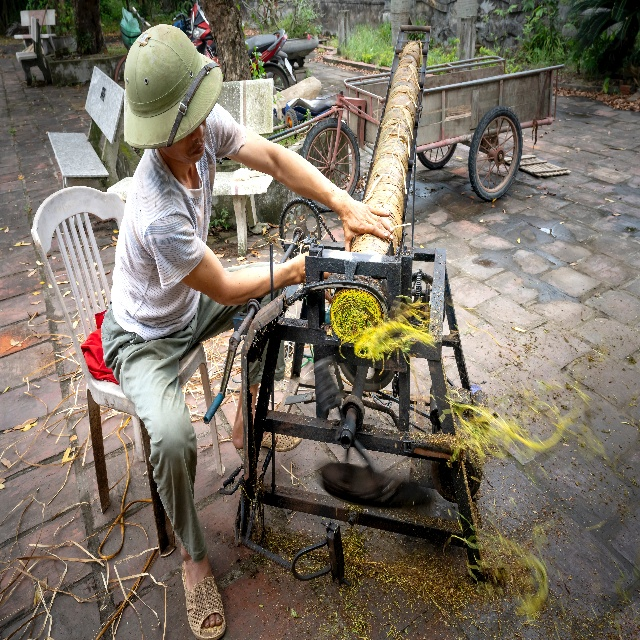Sin_guantes: (340, 192, 394, 252)
